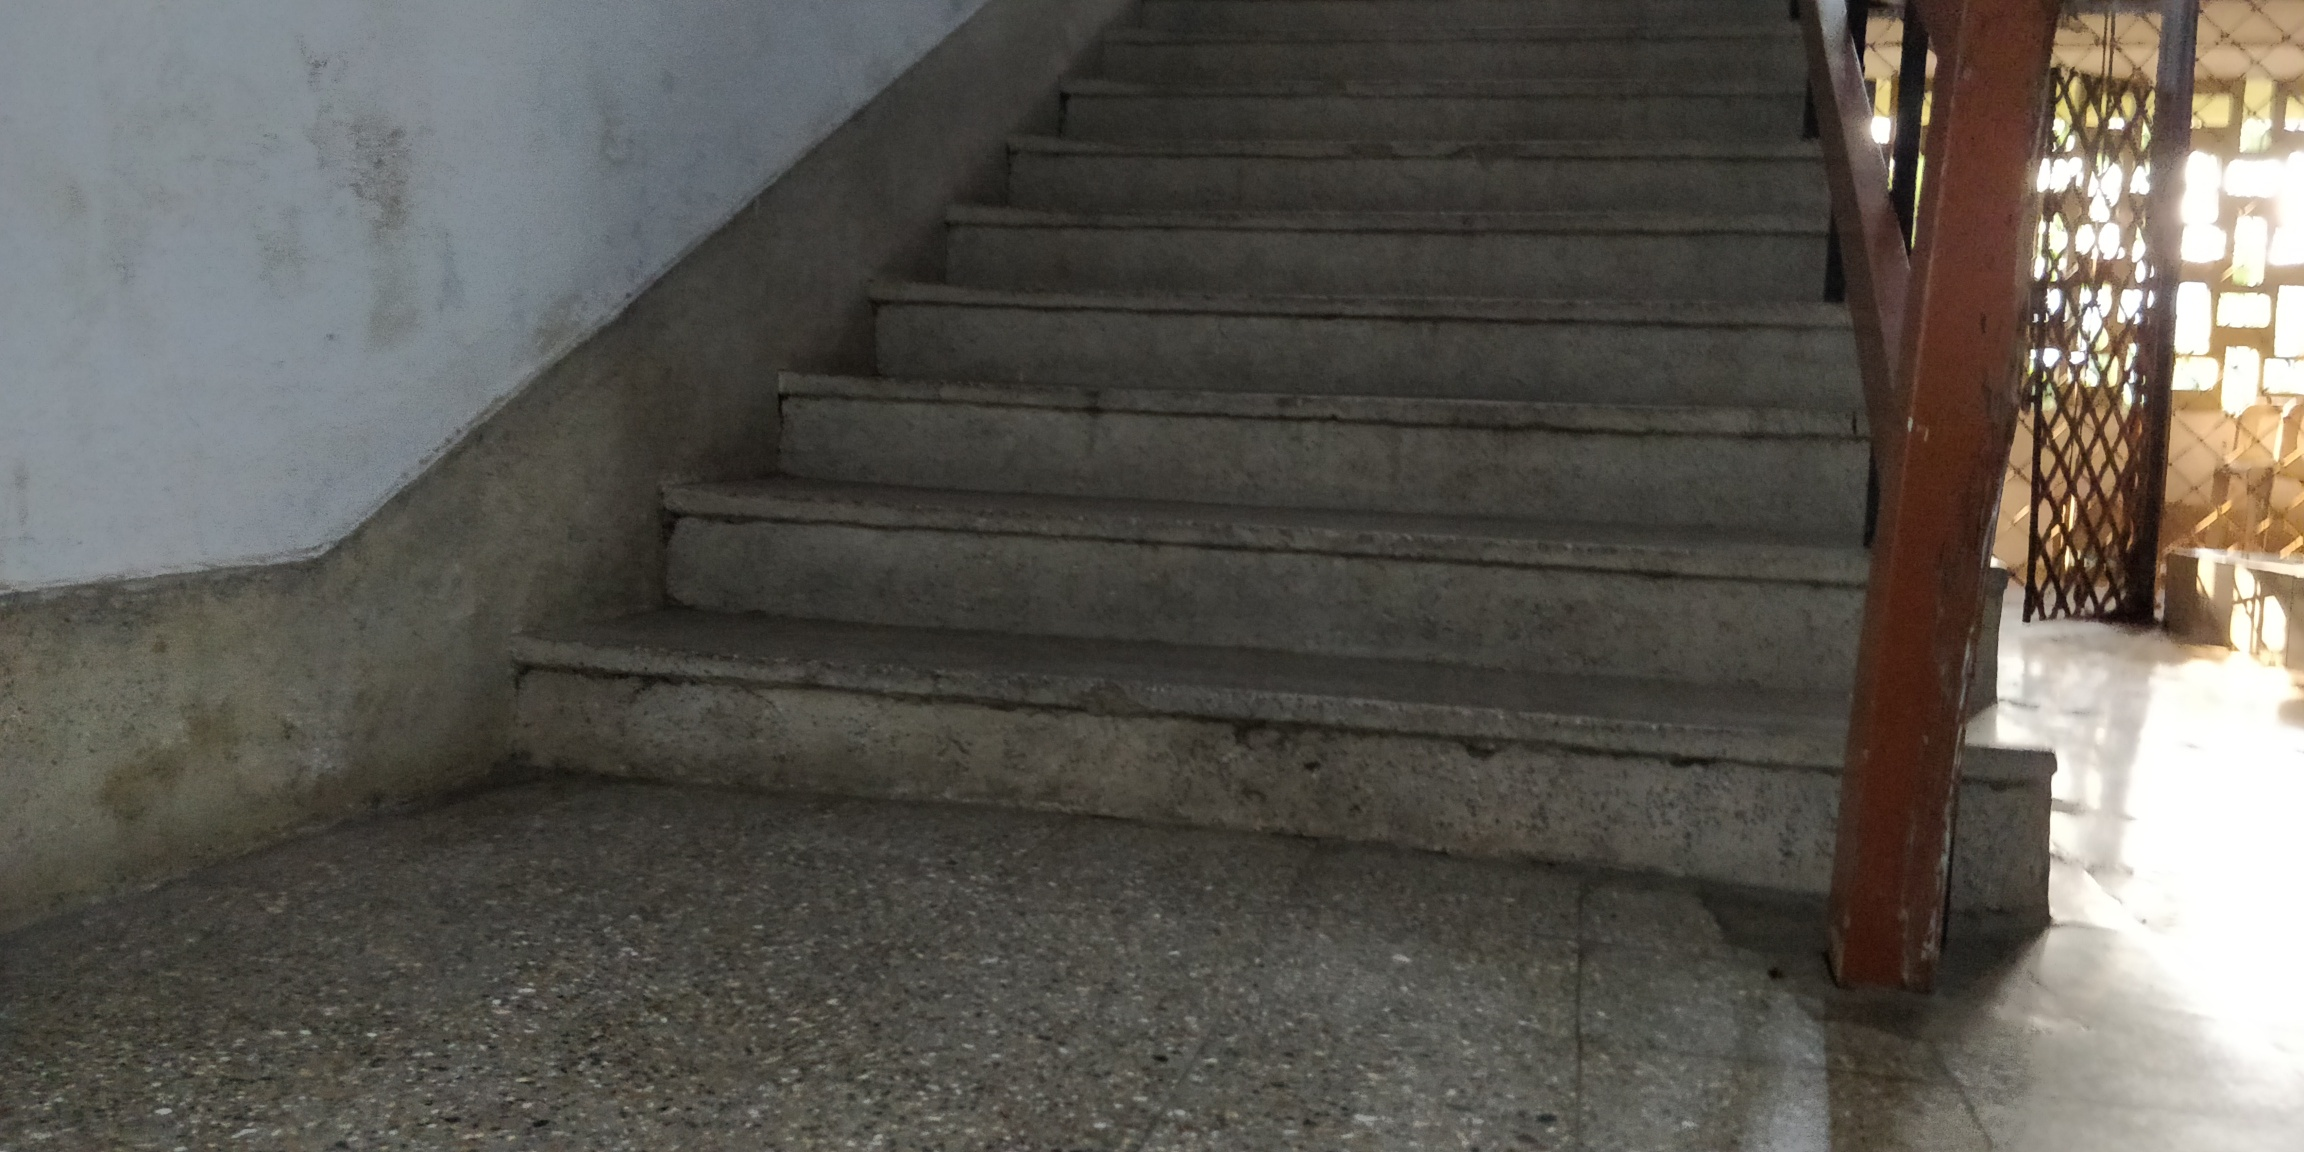stairs_up: (417, 1, 1865, 829)
